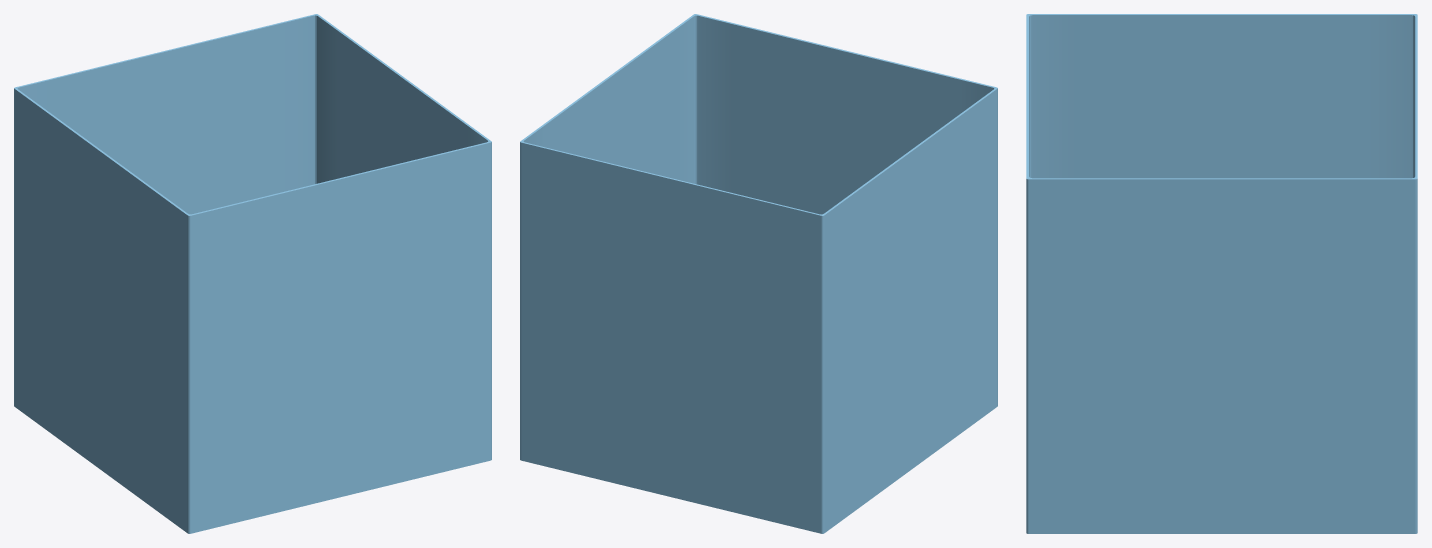
The picture shows the model from 3 angles, left to right: view 1: azimuth 30°, elevation 25°; view 2: azimuth 150°, elevation 25°; view 3: azimuth 270°, elevation 25°; orthographic projection. The views are drawn at different scales.
Parts seen in each view (by area): view 1: Box001; view 2: Box001; view 3: Box001.
Part boxes in pixels (bbox=[...]): Box001: bbox=[14, 14, 491, 533]; Box001: bbox=[520, 14, 997, 533]; Box001: bbox=[1026, 14, 1417, 533].
Size of the model in its own units: 30 by 30 by 30.
